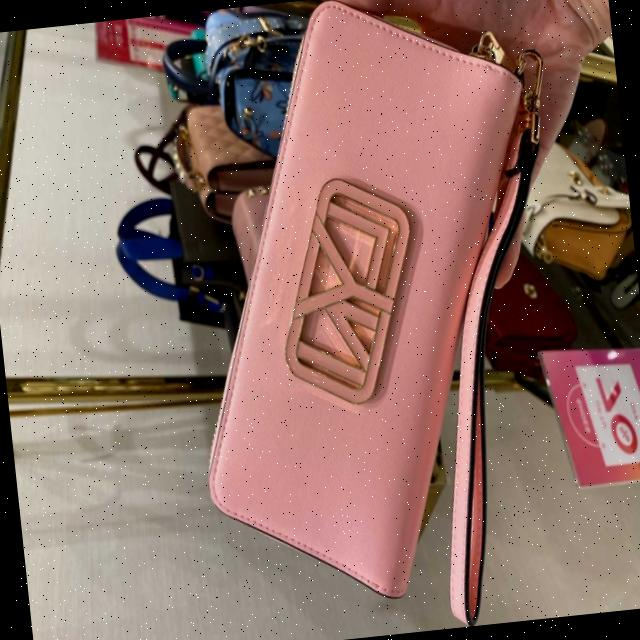handbag: (149, 0, 601, 623)
